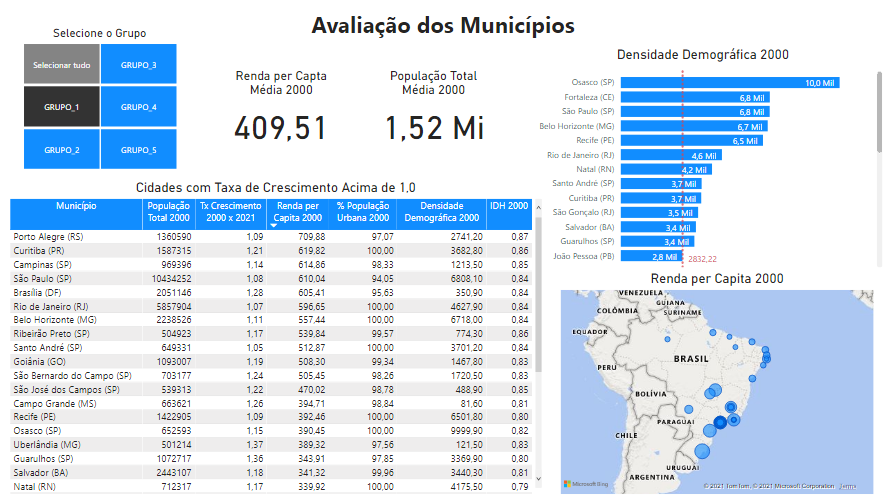

Layout of this report page (visuals, bound fields, positions):
{"tool":"powerbi","page":{"name":"Estudo_por_Grupo","canvas":[1280,720],"ordinal":1},"visuals":[{"type":"slicer","title":"Selecione o Grupo","fields":{"Values":["selecao_2021.Grupo da cidade, 2000"]},"box":[10.2,40.9,270.1,213.3],"z":0},{"type":"tableEx","title":"Cidades com Taxa de Crescimento Acima de 1,0","fields":{"Values":["selecao_2021.Município","Sum(selecao_2021.População total, 2000)","Sum(selecao_2021.Aumento da populção total 2000 x 1991)","Sum(selecao_2021.Renda per Capita, 2000)","Sum(selecao_2021.% População urbana, 2000)","Sum(selecao_2021.Densidade demográfica, 2000)","Sum(selecao_2021.Índice de Desenvolvimento Humano Municipal, 2000)"]},"box":[10.2,262.1,778.4,458.4],"z":1000},{"type":"card","title":"Renda per Capta Média 2000","fields":{"Values":["Avg(selecao_2021.Renda per Capita, 2000)"]},"box":[323.4,101,167.9,118],"z":2000},{"type":"card","title":"População Total Média 2000","fields":{"Values":["Avg(selecao_2021.População total, 2000)"]},"box":[540.1,101,174.8,118],"z":3000},{"type":"clusteredBarChart","title":"Densidade Demográfica 2000","fields":{"Category":["selecao_2021.Município"],"Y":["Sum(selecao_2021.Densidade demográfica, 2000)"]},"box":[752.3,70.4,527.7,323.4],"z":4000},{"type":"map","title":"Renda per Capita 2000","fields":{"Category":["selecao_2021.País","selecao_2021.Município"],"Size":["Sum(selecao_2021.Renda per Capita, 2000)"]},"box":[805.7,393.8,461.8,326.8],"z":5000},{"type":"textbox","box":[438,10.2,404,60.1],"z":6000}]}

Visuals, with their boxes in screenshot pixels (x1, y1, x2, y2), scaled from the page's 1280x720 canvas onto the 885x495 screenshot:
"Selecione o Grupo" slicer: region(7, 28, 194, 175)
"Cidades com Taxa de Crescimento Acima de 1,0" tableEx: region(7, 180, 545, 494)
"Renda per Capta Média 2000" card: region(224, 69, 340, 151)
"População Total Média 2000" card: region(373, 69, 494, 151)
"Densidade Demográfica 2000" clusteredBarChart: region(520, 48, 884, 271)
"Renda per Capita 2000" map: region(557, 271, 876, 494)
textbox: region(303, 7, 582, 48)
